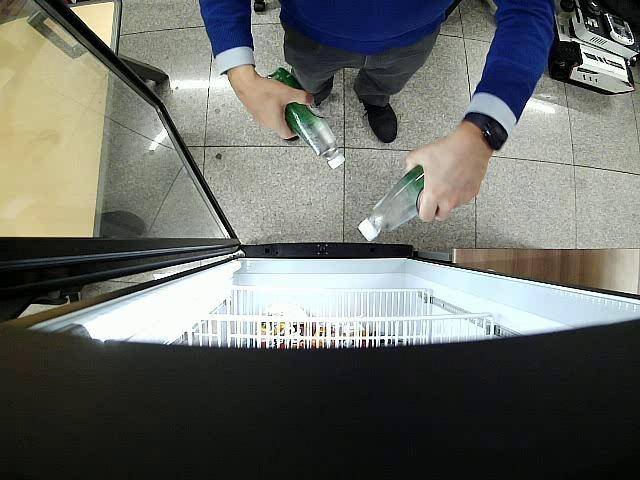18_trevi: (263, 67, 345, 168), (358, 164, 425, 243)
